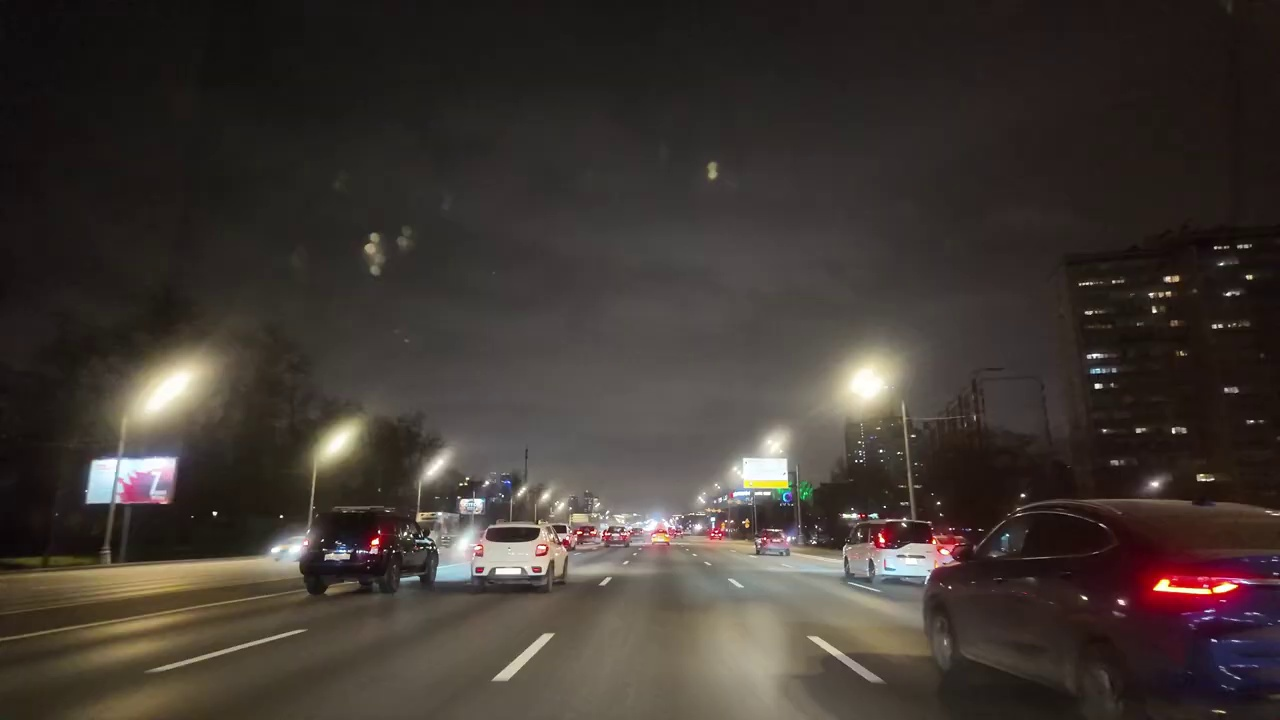acesa: (132, 360, 205, 427), (838, 358, 894, 413), (312, 417, 363, 470), (417, 448, 454, 487), (756, 430, 789, 464)
